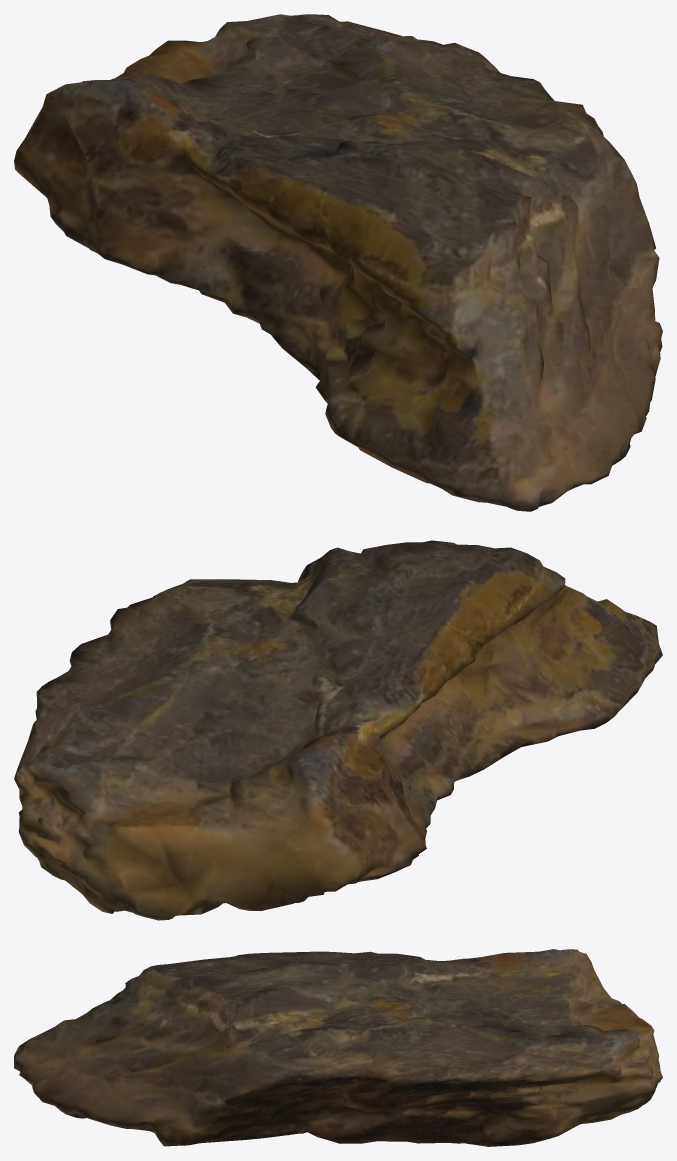
File: rock_09.glb
The picture shows the model from 3 angles, top to bottom: view 1: azimuth 30°, elevation 25°; view 2: azimuth 150°, elevation 25°; view 3: azimuth 270°, elevation 25°; orthographic projection. The views are drawn at different scales.
Parts seen in each view (by area): view 1: rock_09_LOD0; view 2: rock_09_LOD0; view 3: rock_09_LOD0.
Part boxes in pixels (bbox=[...]): rock_09_LOD0: bbox=[14, 14, 662, 511]; rock_09_LOD0: bbox=[14, 540, 662, 920]; rock_09_LOD0: bbox=[14, 949, 662, 1146].
Size of the model in its own units: 0.074 by 0.0328 by 0.1446.
1 material, 1 textured.
